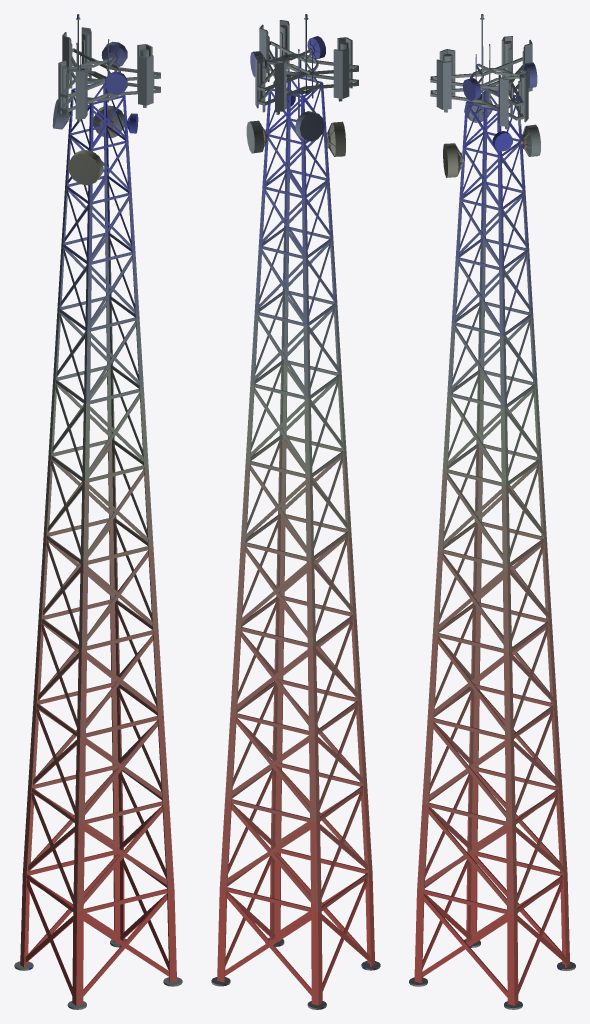
File: radio_tower.mesh.fbx
The picture shows the model from 3 angles, left to right: view 1: azimuth 30°, elevation 25°; view 2: azimuth 150°, elevation 25°; view 3: azimuth 330°, elevation 25°; orthographic projection.
Parts seen in each view (by area): view 1: RadioTower_LOD0; view 2: RadioTower_LOD0; view 3: RadioTower_LOD0.
Part boxes in pixels (x1=…): RadioTower_LOD0: x1=14, y1=14, x2=182, y2=1009; RadioTower_LOD0: x1=211, y1=14, x2=380, y2=1009; RadioTower_LOD0: x1=409, y1=14, x2=575, y2=1009.
Size of what is drawn, in the model's own units: 3.17 by 25.97 by 3.09.
